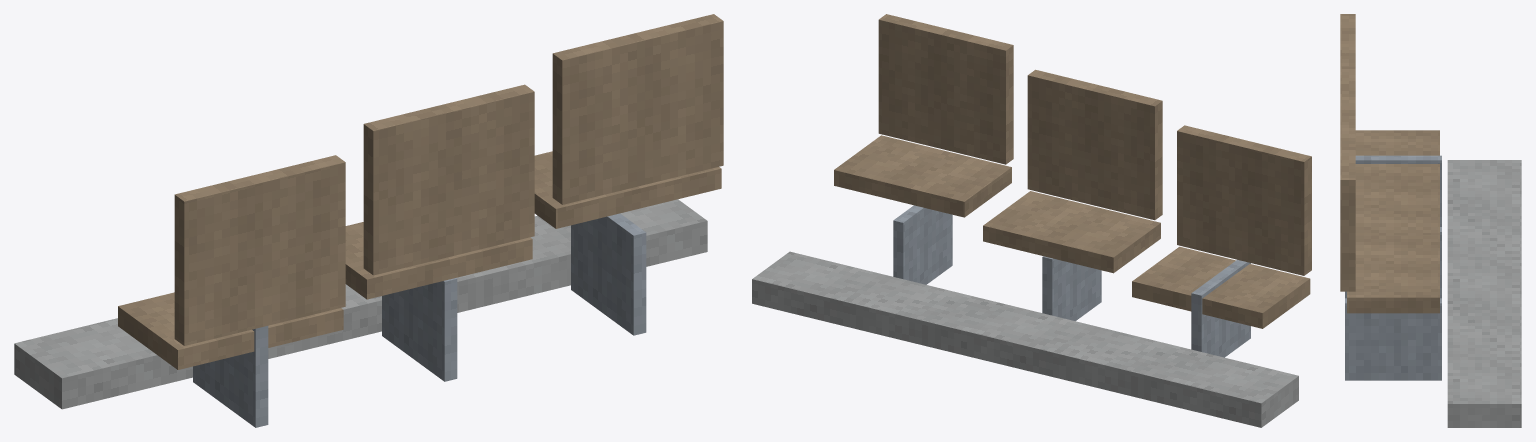
Rendered from level_blockout_lecture_tier_row.glb.
3 renders of one model, left to right at view 1: azimuth 30°, elevation 25°; view 2: azimuth 150°, elevation 25°; view 3: azimuth 270°, elevation 25°, orthographic. The views are drawn at different scales.
Visible parts, largest first — view 1: level_blockout_lecture_tier_row; view 2: level_blockout_lecture_tier_row; view 3: level_blockout_lecture_tier_row.
Part boxes in pixels (box(x1,y1,x2,y2)): level_blockout_lecture_tier_row: box(14, 14, 723, 427); level_blockout_lecture_tier_row: box(752, 14, 1311, 427); level_blockout_lecture_tier_row: box(1340, 14, 1521, 427).
Bounding box in the file's own units: 3.04 × 1.33 × 0.955.
3 materials, 3 textured.
